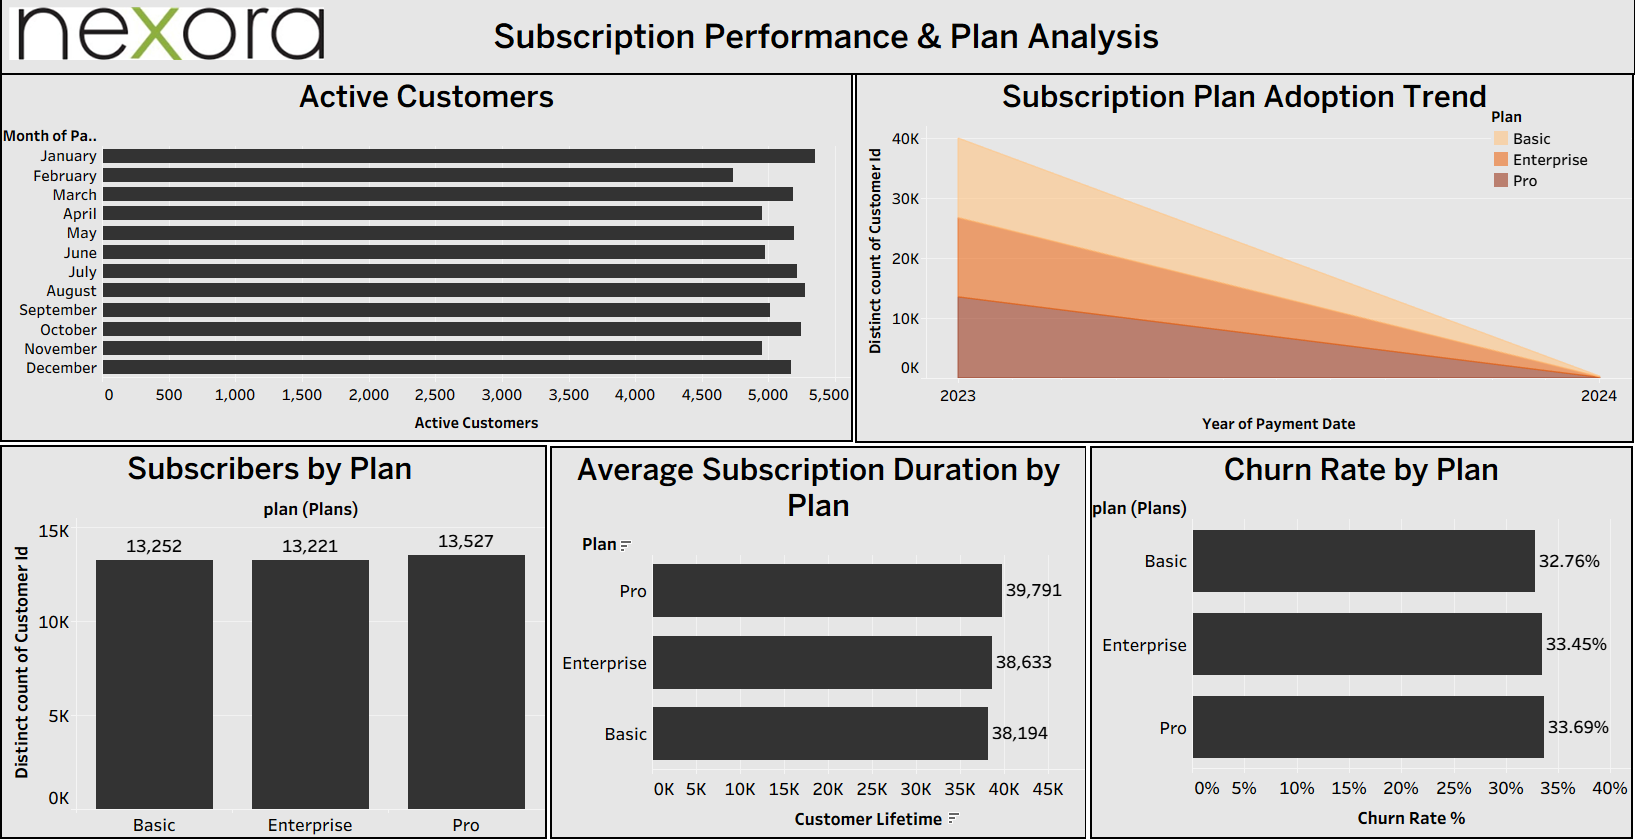

The page's visual inventory and layout, read from the dashboard file:
{"tool":"tableau","page":{"name":"Subscription Performance & Plan Analysis","canvas":[1000,1000],"units":"permille","ordinal":3},"visuals":[{"type":"text","box":[1.8,3.6,997,91.1]},{"type":"image","param":"Image/image2.jpg","box":[7.2,14.2,191.8,71]},{"type":"worksheet","title":"Active Customers","mark":"Bar","rows":["payment_date"],"cols":["Calculation_1881849669496834"],"box":[1.8,92.3,519.5,436.7]},{"type":"worksheet","title":"Subscription Plan Adoption Trend","mark":"Area","rows":["customer_id"],"cols":["payment_date"],"box":[523.1,92.3,474.4,437.9]},{"type":"legend","title":"Subscription Plan Adoption Trend","param":"[federated.0i4d55b09ys8sk15b942h0tkai63].[none:plan:nk]","box":[910.4,131.4,85.3,100.6]},{"type":"worksheet","title":"Subscribers by Plan","mark":"Automatic","rows":["customer_id"],"cols":["plan (Plans)"],"box":[1.8,532.5,333.1,466.3]},{"type":"worksheet","title":"Average Subscription Duration by Plan","mark":"Automatic","rows":["plan"],"cols":["Calculation_2021212936556544"],"box":[336.7,533.7,327.1,465.1]},{"type":"worksheet","title":"Churn Rate by Plan","mark":"Automatic","rows":["plan (Plans)"],"cols":["Calculation_1881849669738500"],"box":[666.3,533.7,330.7,465.1]}]}

Visuals, with their boxes on the dashboard's canvas, which has no fixed pixel size, in thousandths of its width and height (x1, y1, x2, y2). These are canvas units, not pixel positions in the 1635x840 screenshot, which may show the page scaled, cropped or inside an application window:
text: (x1=2, y1=4, x2=999, y2=95)
image: (x1=7, y1=14, x2=199, y2=85)
"Active Customers" worksheet (Bar marks): (x1=2, y1=92, x2=521, y2=529)
"Subscription Plan Adoption Trend" worksheet (Area marks): (x1=523, y1=92, x2=998, y2=530)
"Subscription Plan Adoption Trend" legend: (x1=910, y1=131, x2=996, y2=232)
"Subscribers by Plan" worksheet: (x1=2, y1=532, x2=335, y2=999)
"Average Subscription Duration by Plan" worksheet: (x1=337, y1=534, x2=664, y2=999)
"Churn Rate by Plan" worksheet: (x1=666, y1=534, x2=997, y2=999)
